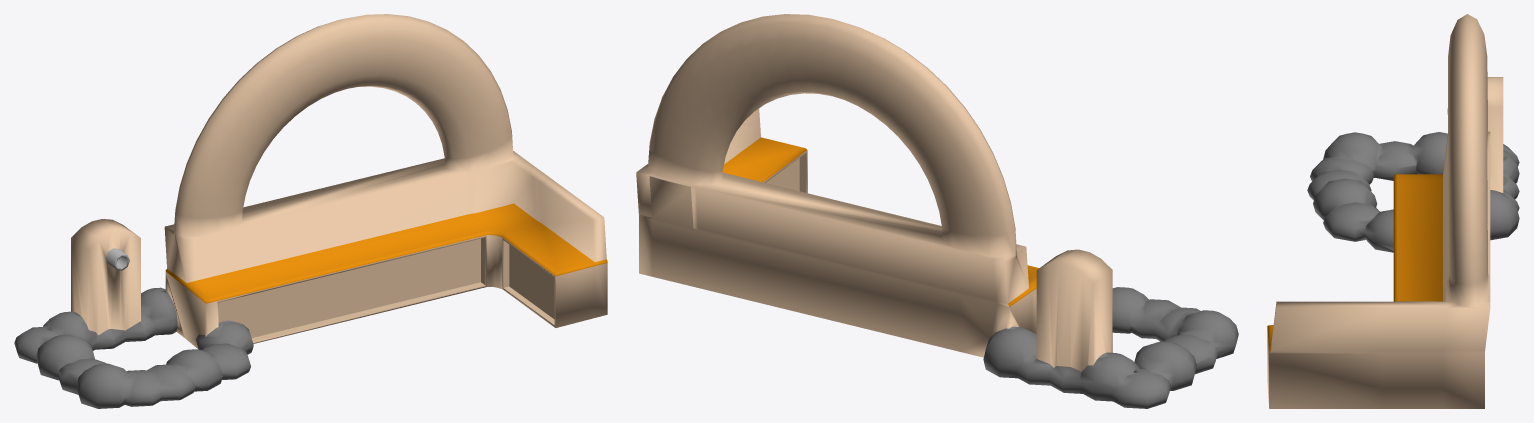
File: asientoJardin.fbx
The picture shows the model from 3 angles, left to right: view 1: azimuth 30°, elevation 25°; view 2: azimuth 150°, elevation 25°; view 3: azimuth 270°, elevation 25°; orthographic projection. The views are drawn at different scales.
Parts seen in each view (by area): view 1: Cube; view 2: Cube; view 3: Cube.
Part boxes in pixels (x1,y1,x2,y2): Cube: [14, 14, 607, 408]; Cube: [636, 14, 1238, 408]; Cube: [1267, 14, 1519, 408].
Bounding box in the file's own units: 1871 × 985 × 784.
